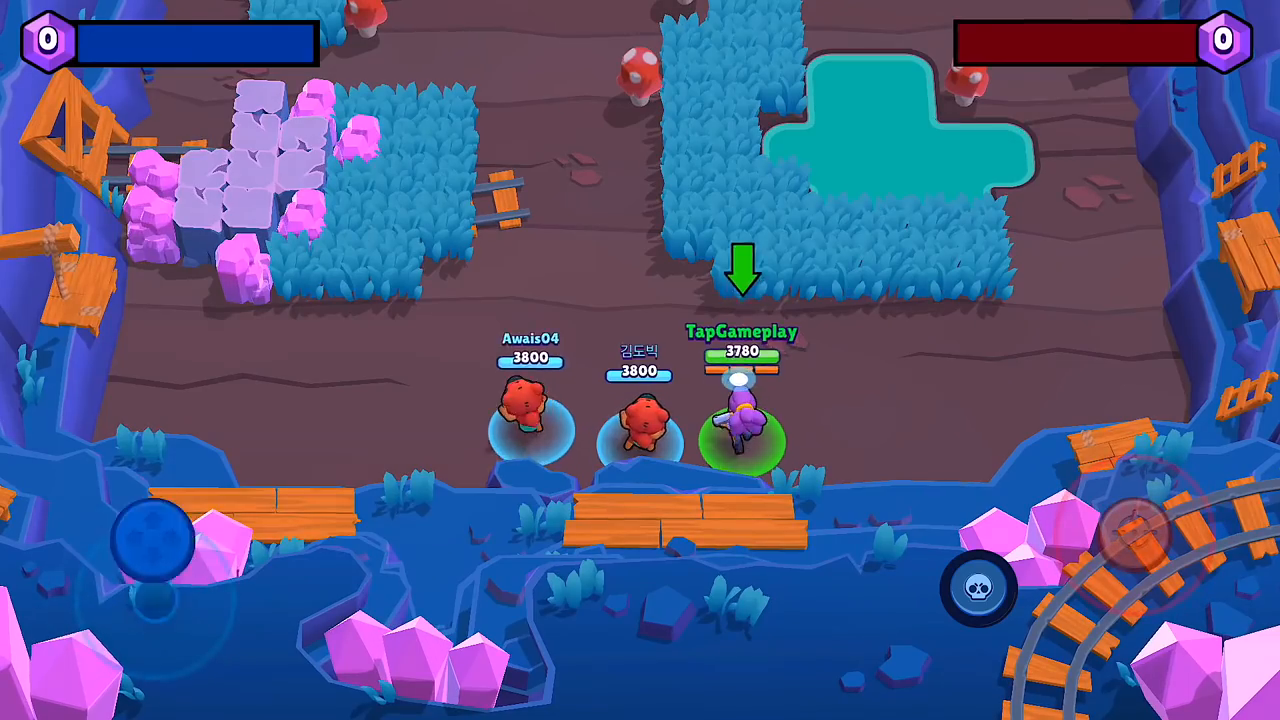move_stick: (116, 500, 195, 566)
